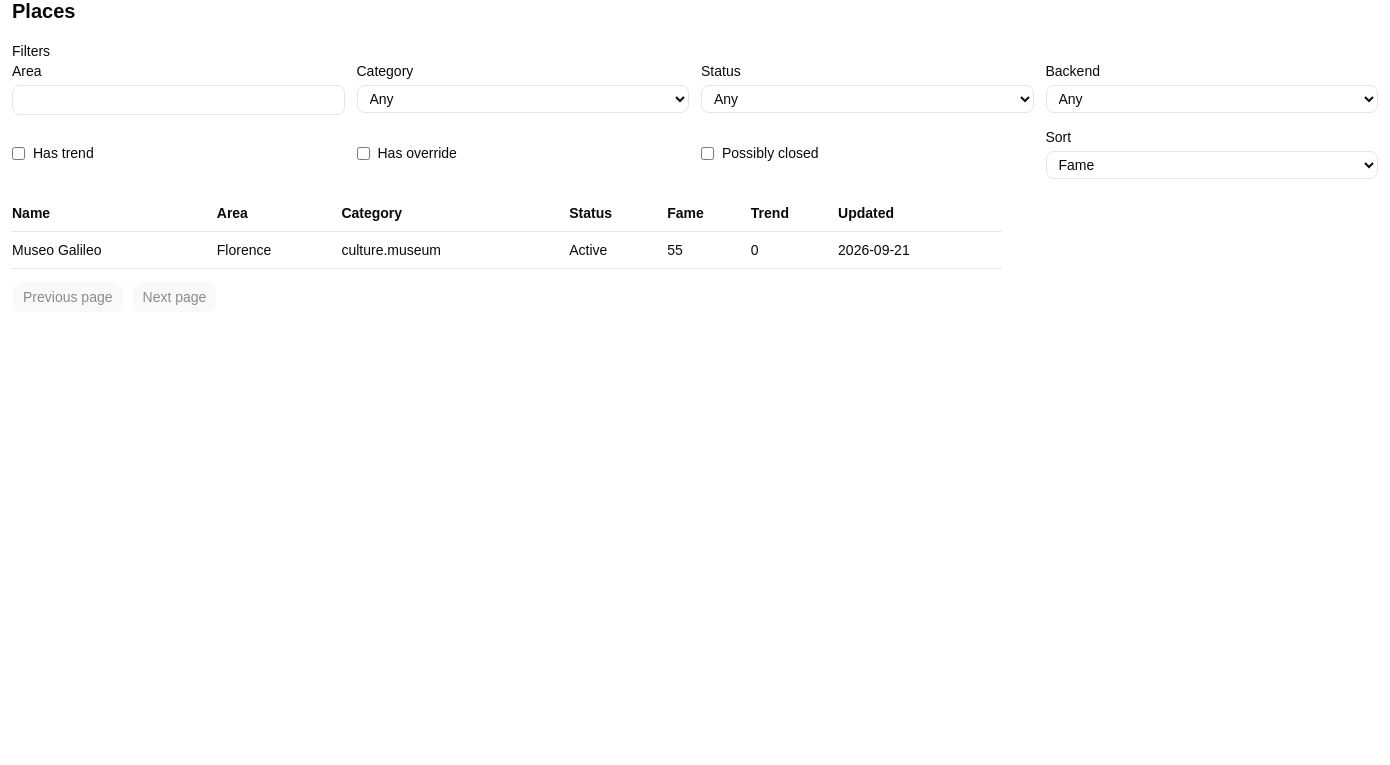
Test: the place drawer links to OpenStreetMap and shows quote verification
This screenshot has width=1390, height=765.
Click the button "Museo Galileo" at (57, 250), box [12,240,102,260]
(page scrolled)
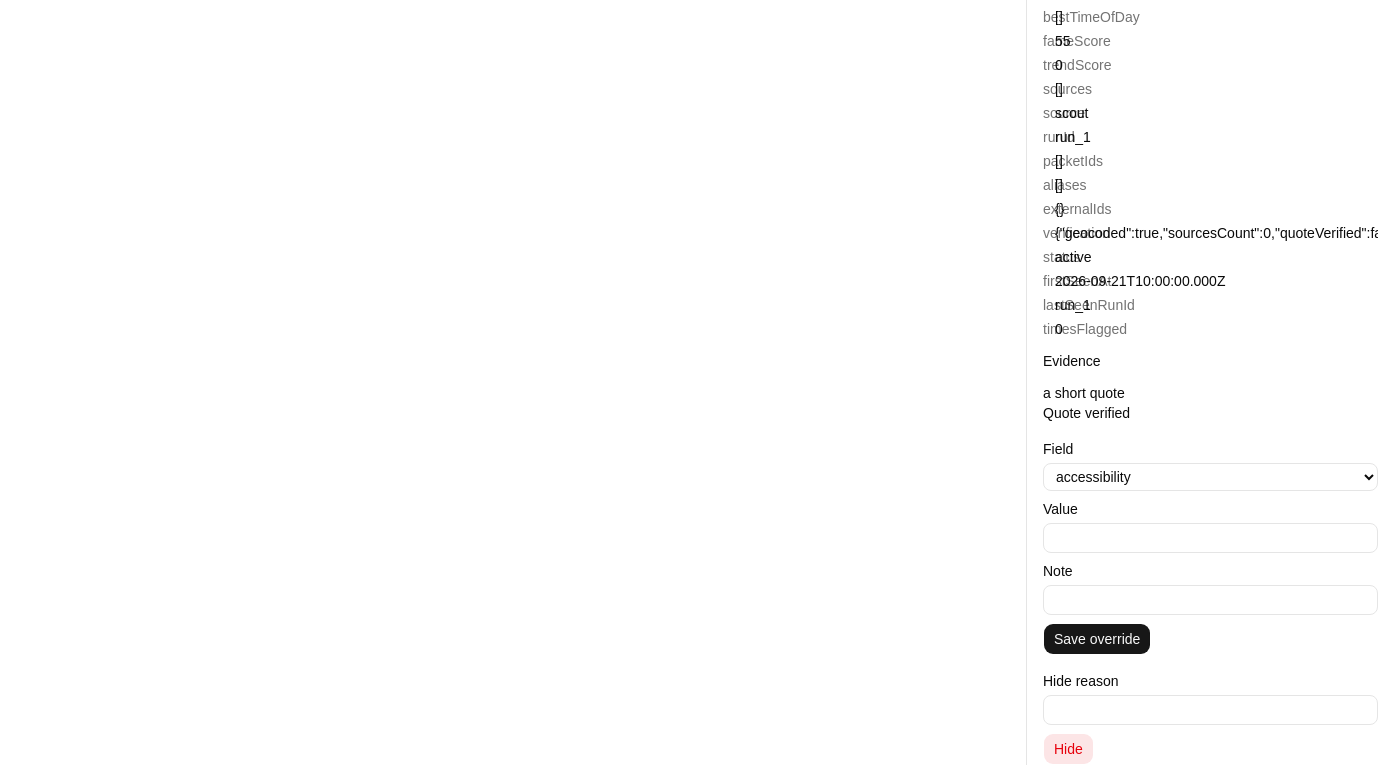
Result: the text "Quote verified" is shown at [1043,405,1130,421]
